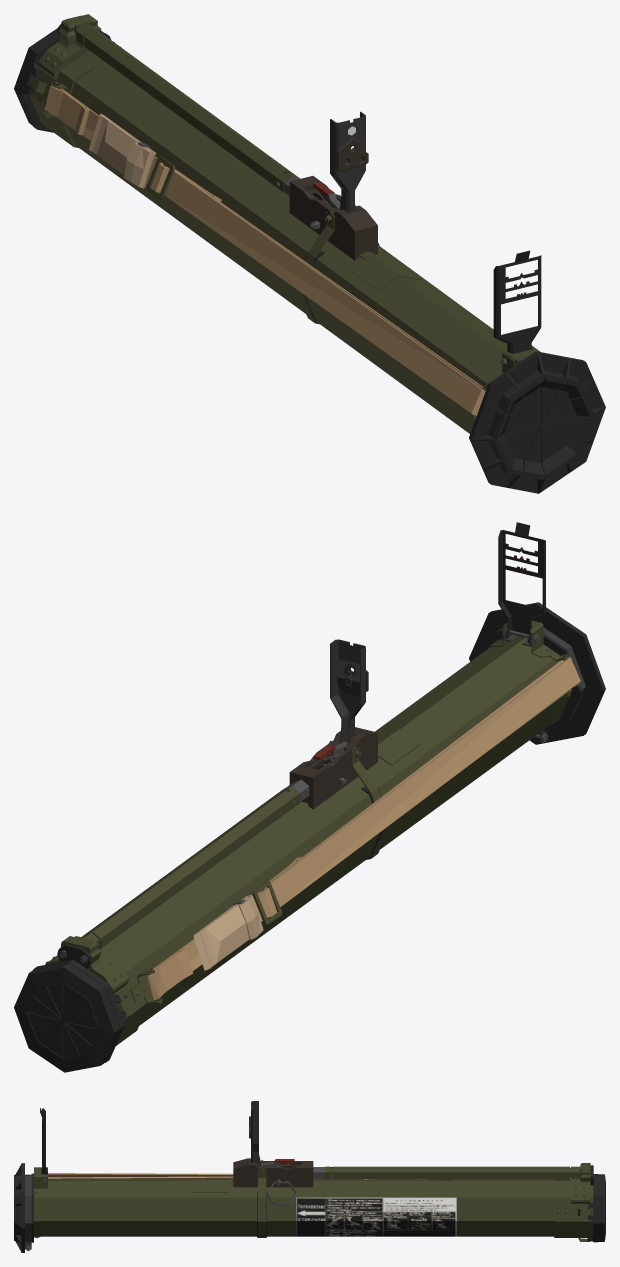
Rendered from bazooka.obj.
3 views of the same model, one above another, from view 1: azimuth 30°, elevation 25°; view 2: azimuth 150°, elevation 25°; view 3: azimuth 270°, elevation 25° (orthographic). The views are drawn at different scales.
Visible parts, largest first — view 1: Object_4.001; view 2: Object_4.001; view 3: Object_4.001.
Boxes of the visible parts, x1,y1,x2,y2 form: Object_4.001: (14, 14, 605, 493); Object_4.001: (14, 522, 605, 1072); Object_4.001: (14, 1101, 605, 1252).
Size of the model in its own units: 0.3104 by 0.5234 by 1.93.
2 materials, 2 textured.
